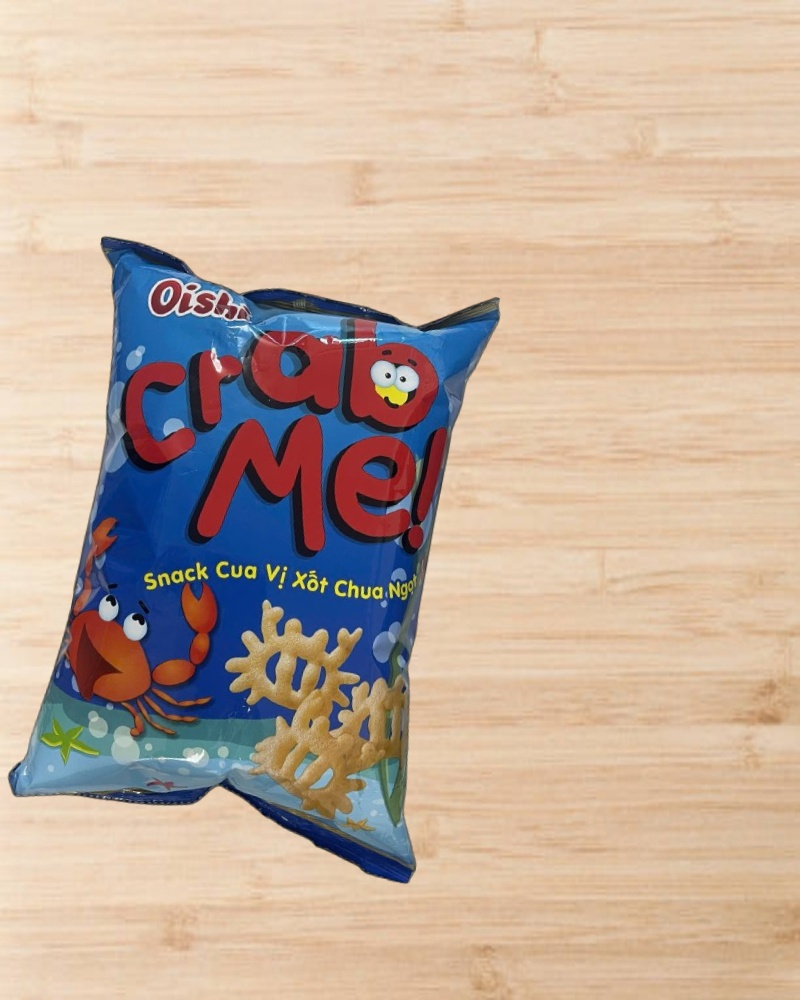Snack cua: (2, 229, 516, 879)
